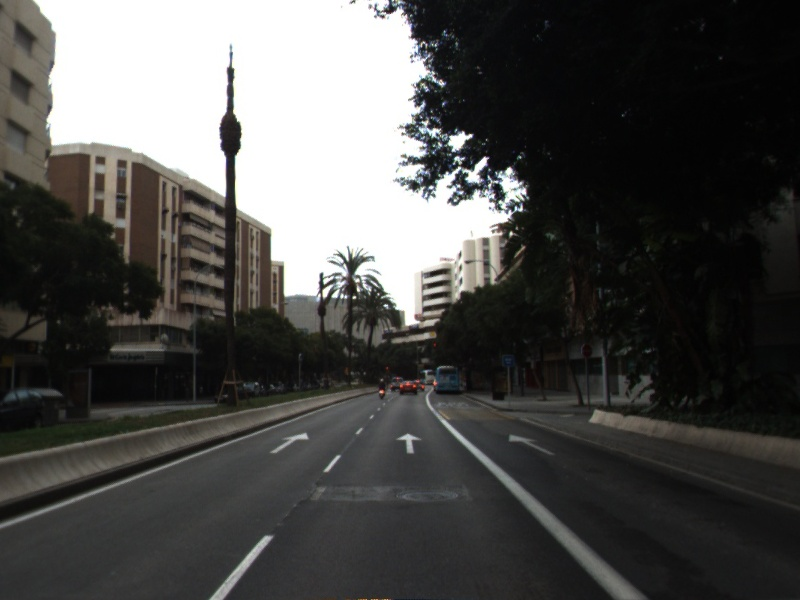STRAIGHT: (507, 432, 557, 457), (267, 430, 312, 455), (394, 431, 424, 456)
